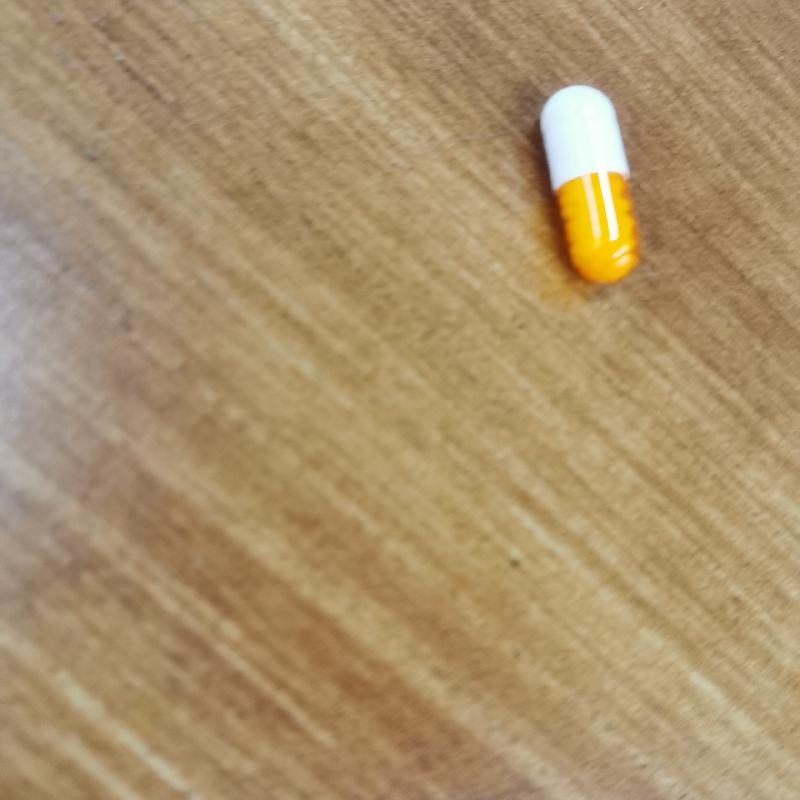pills: (522, 75, 660, 301)
